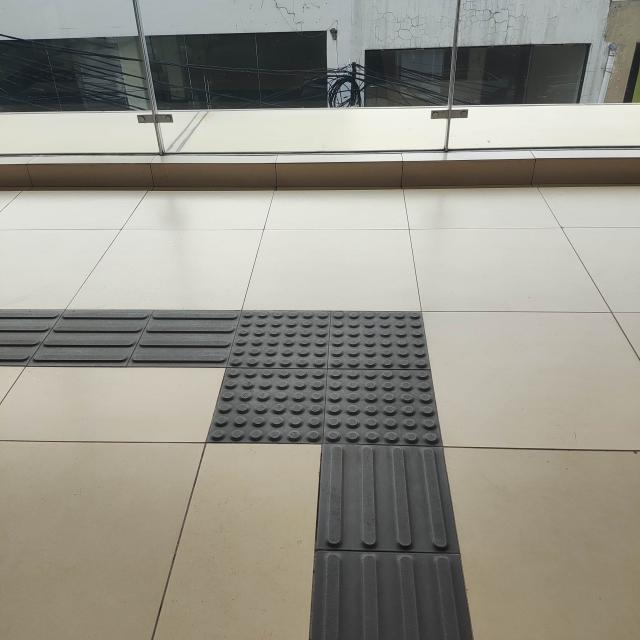kiri: (105, 249, 502, 539)
